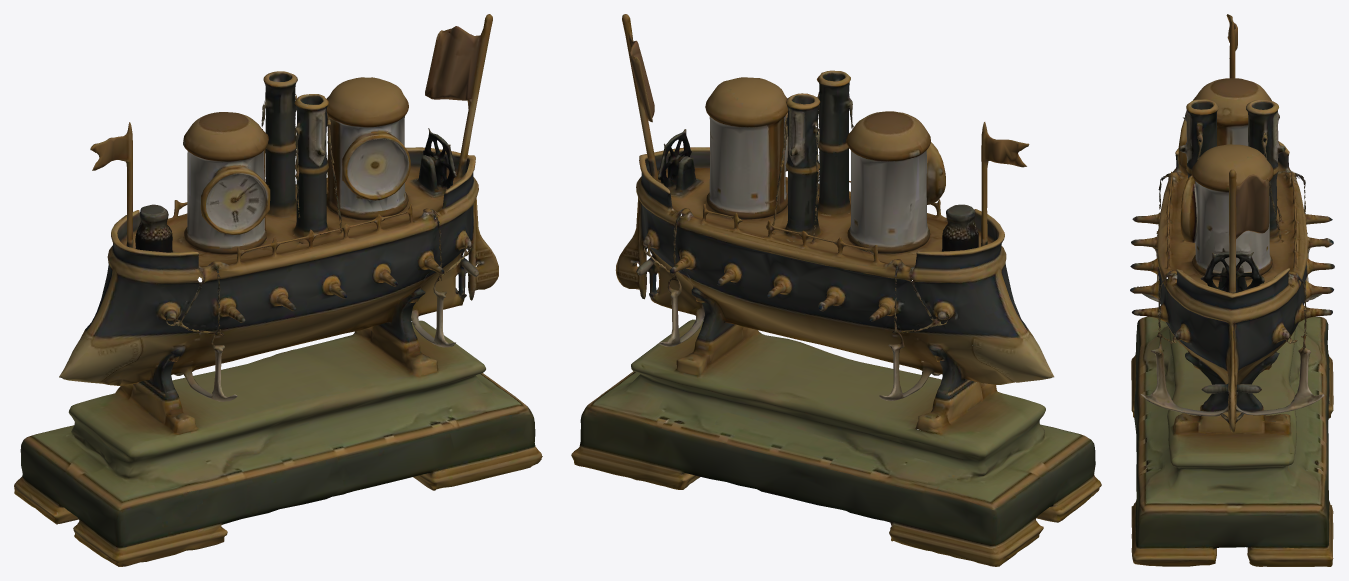
File: 汽船式风雨表.glb
3 views of the same model, side by side, from view 1: azimuth 30°, elevation 25°; view 2: azimuth 150°, elevation 25°; view 3: azimuth 270°, elevation 25° (orthographic). The views are drawn at different scales.
Visible parts, largest first — view 1: tripo_node_8743cd30; view 2: tripo_node_8743cd30; view 3: tripo_node_8743cd30.
Part boxes in pixels (x1,y1,x2,y2): tripo_node_8743cd30: (14,14,542,566); tripo_node_8743cd30: (571,14,1101,566); tripo_node_8743cd30: (1130,14,1334,566).
Bounding box in the file's own units: 96.61 × 86.93 × 40.6.
1 material, 1 textured.
